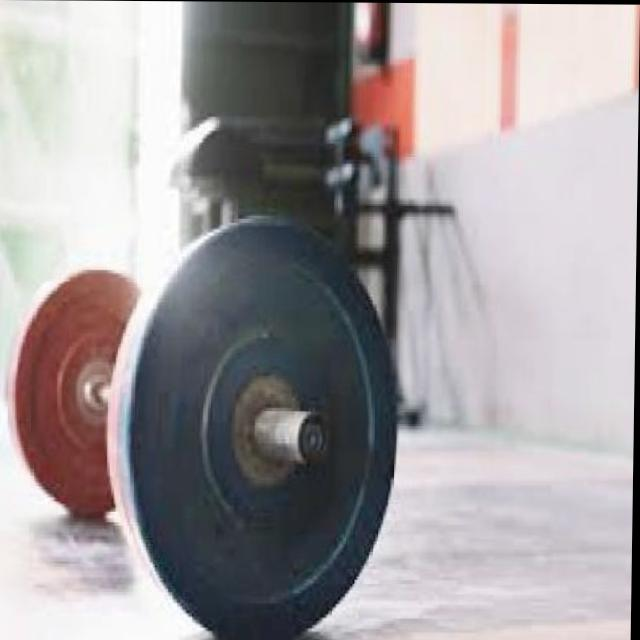barbell: (107, 208, 411, 640)
